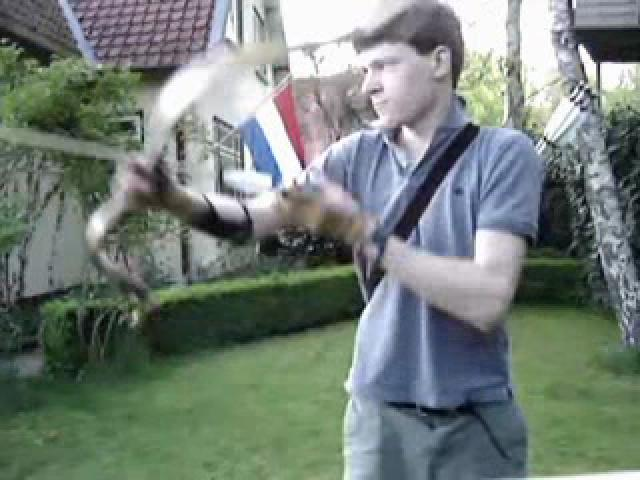P: (106, 6, 548, 479)
